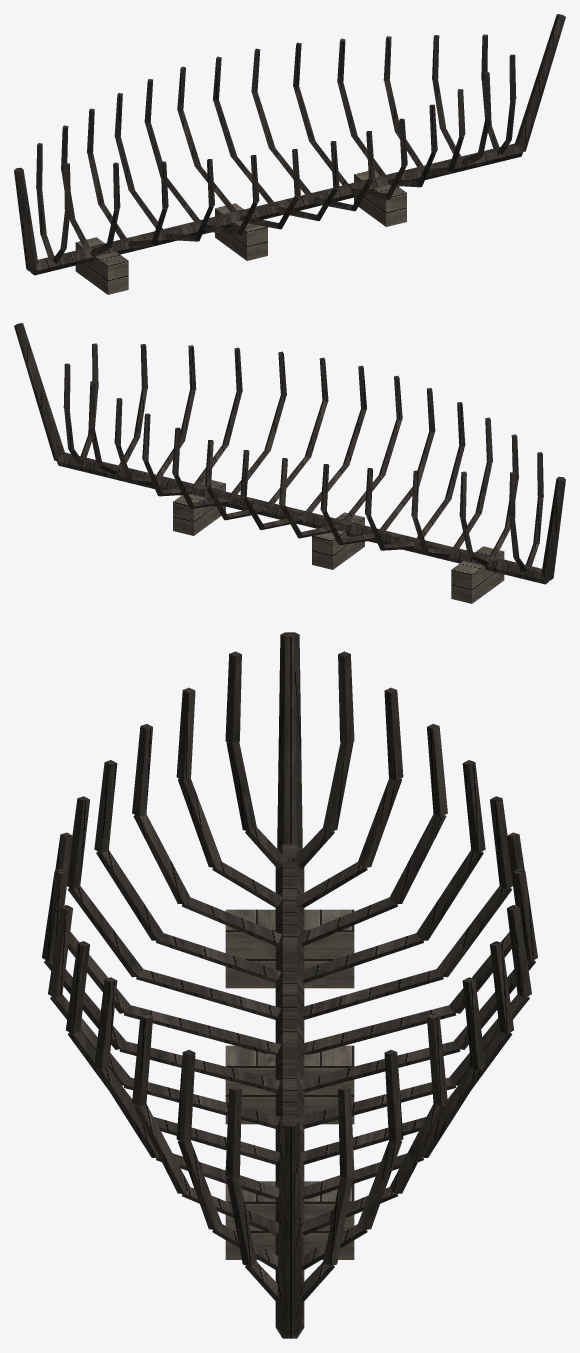
The model's file is costillas.obj.
3 views of the same model, one above another, from view 1: azimuth 30°, elevation 25°; view 2: azimuth 150°, elevation 25°; view 3: azimuth 270°, elevation 25° (orthographic). The views are drawn at different scales.
Visible parts, largest first — view 1: costillas; view 2: costillas; view 3: costillas.
Part boxes in pixels (left/top/right/bottom): costillas: left=14, top=14, right=565, bottom=294; costillas: left=14, top=323, right=565, bottom=603; costillas: left=42, top=632, right=537, bottom=1338.
Bounding box in the file's own units: 15.8 × 4.23 × 6.18.
2 materials, 2 textured.
